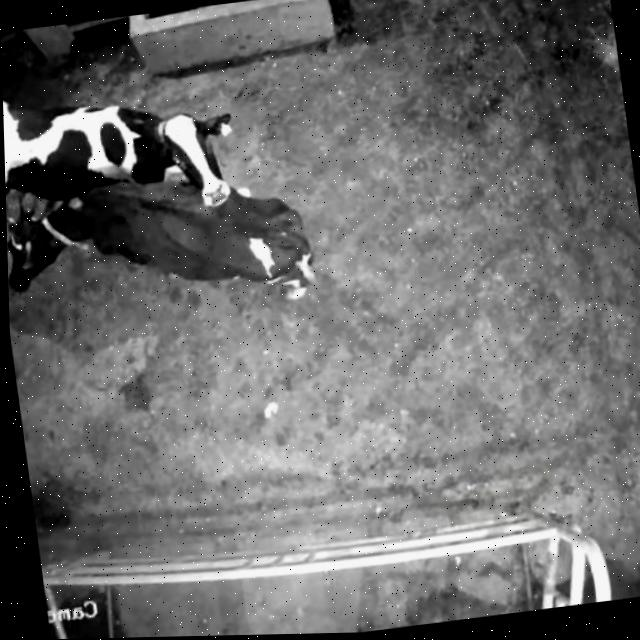propping: (101, 71, 283, 265)
